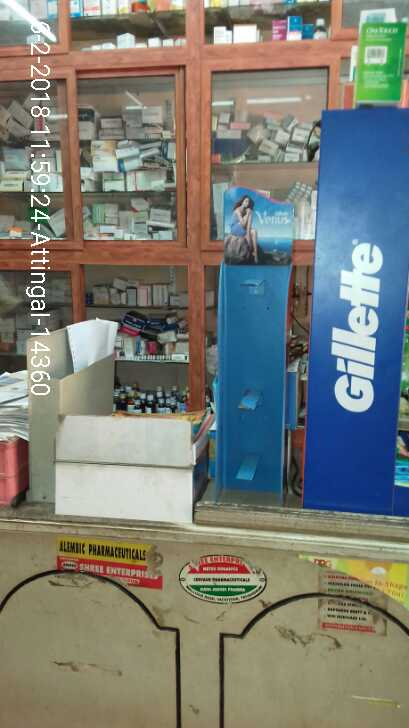reject: (111, 149, 227, 222)
